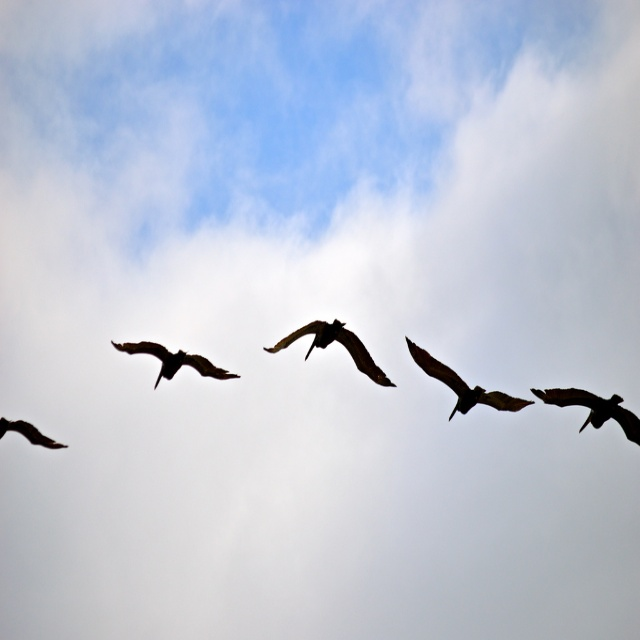Goose: (406, 335, 535, 422), (262, 316, 397, 397), (113, 339, 234, 395), (532, 384, 640, 443), (0, 409, 62, 453)
